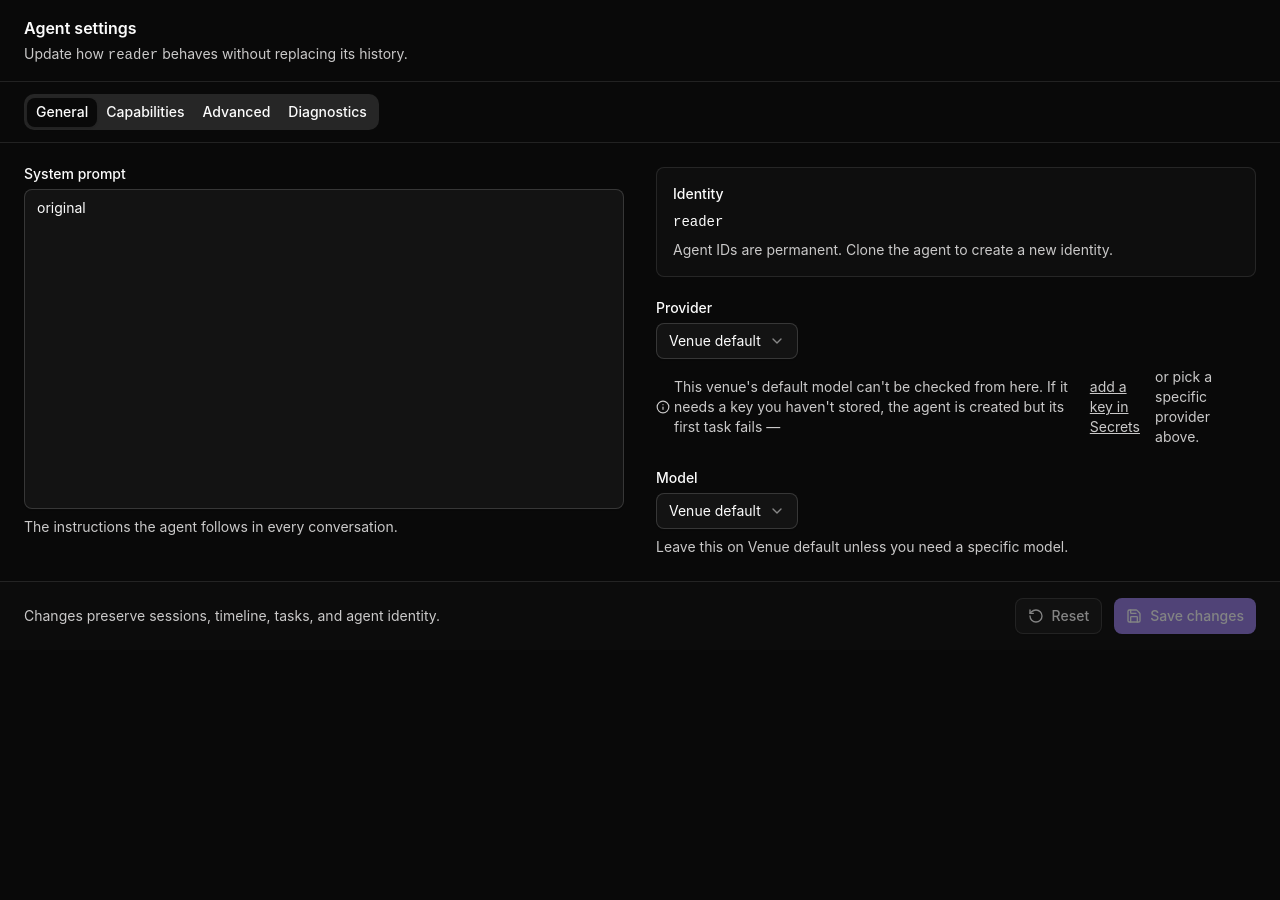
Test case: AgentSettings — concurrent-edit conflict on save › rebases the whole editor onto the fresh config and drops the stale edit
The width and height of the screenshot is (1280, 900).
Replace the text in the text box with test id "agent-system-prompt" with "my in-progress edit": (324, 349) top-left (24, 189), bottom-right (624, 509)
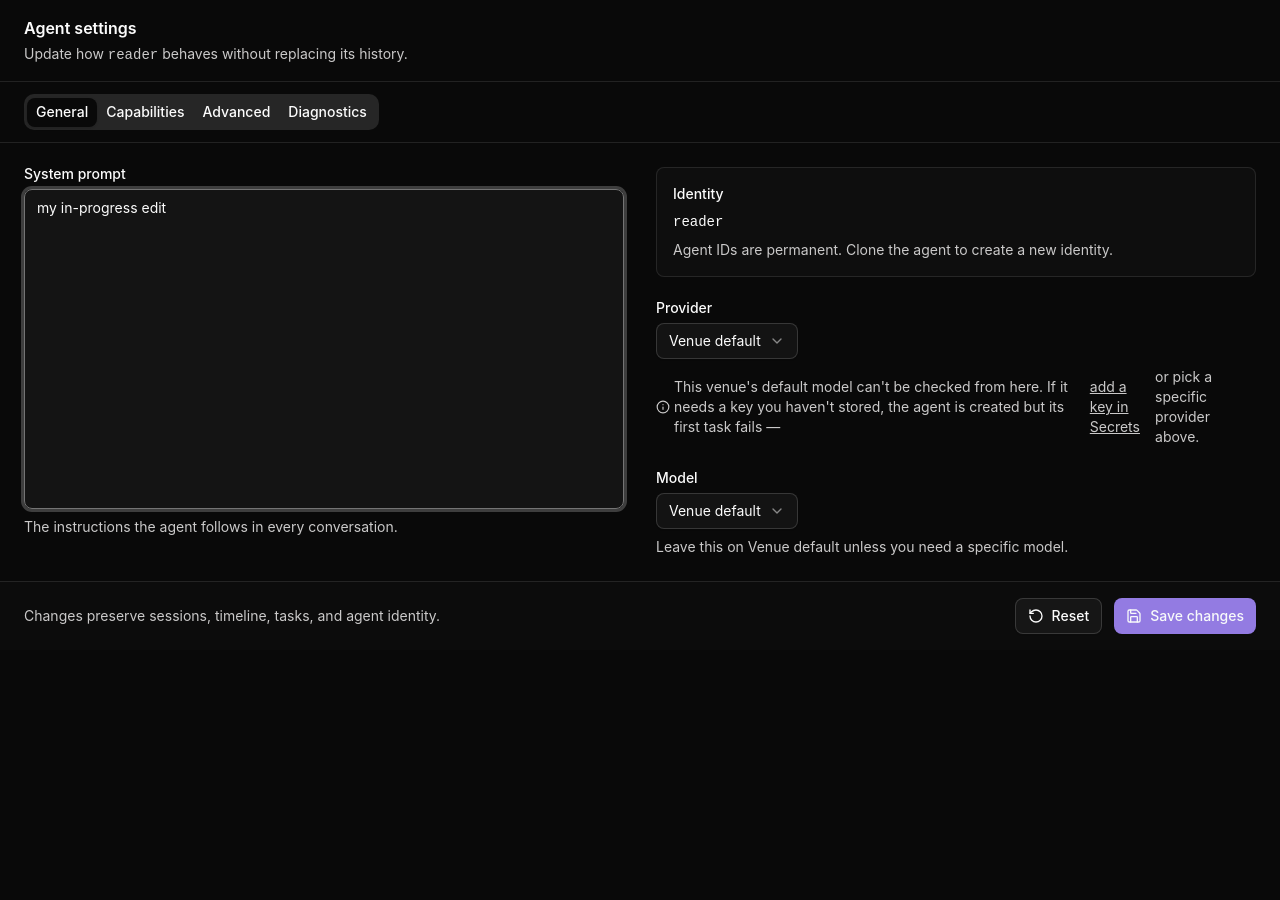
Click the button with test id "save-agent-settings": (1185, 616) top-left (1114, 598), bottom-right (1256, 634)
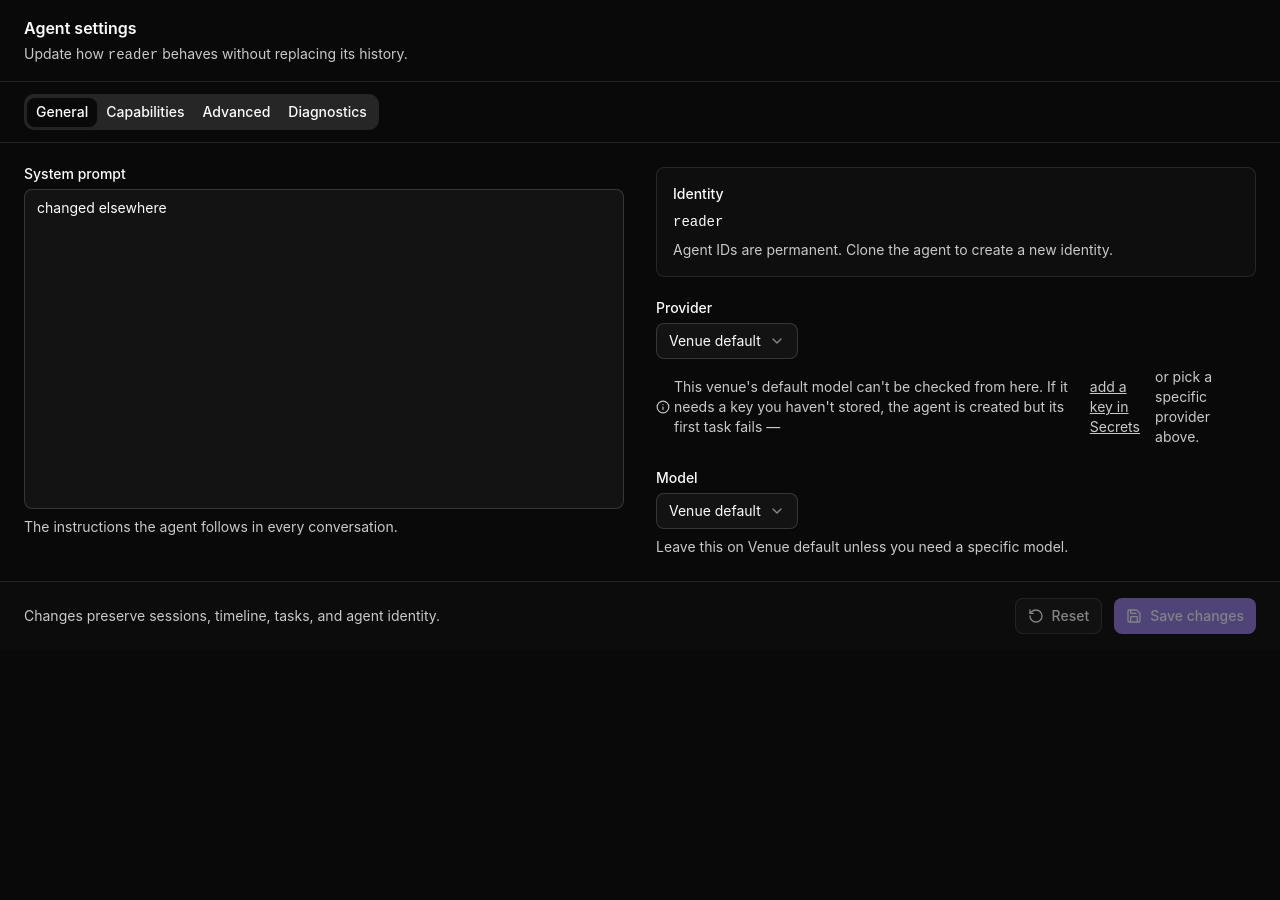
Expected: the text box with test id "agent-system-prompt" holds "changed elsewhere", top-left (24, 189), bottom-right (624, 509)
Expected: the button with test id "save-agent-settings" is disabled, top-left (1114, 598), bottom-right (1256, 634)
